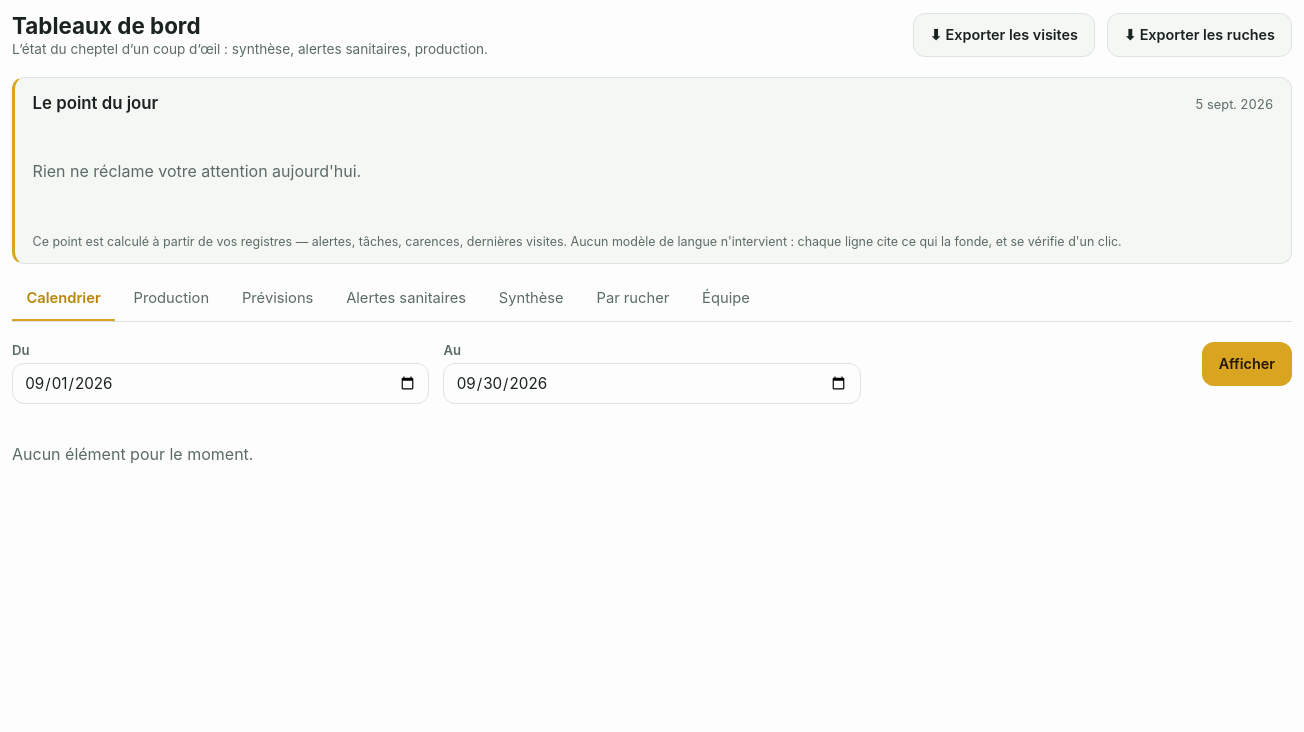
Test: synthèse par rucher et charge d’équipe (SPRINT-23) › affiche « non évalué », jamais un zéro, pour un rucher jamais visité
This screenshot has width=1304, height=732.
Click the button "Par rucher" at (633, 299), box [582,277,684,321]
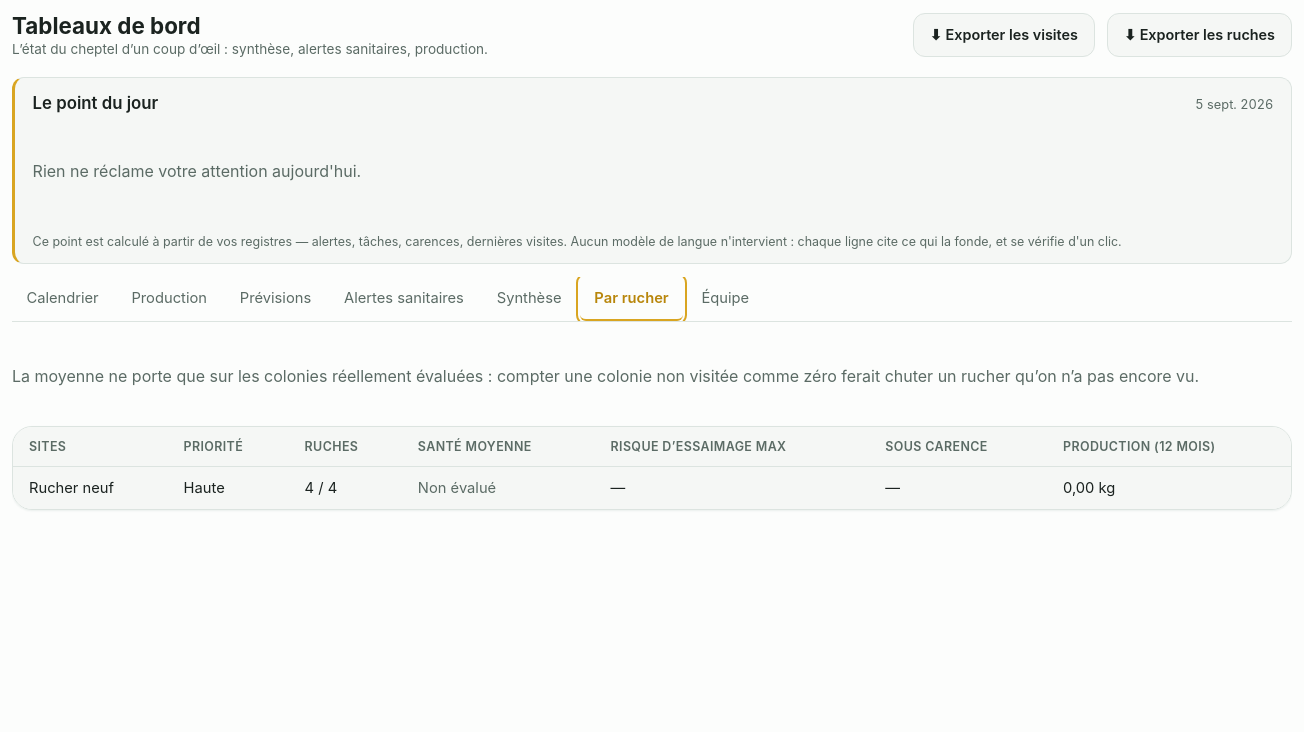
Now the text "Rucher neuf" is shown, box [13,466,168,509]
Now the text "Non évalué" is shown, box [418,479,496,497]
Now the text "Haute" is shown, box [168,466,289,509]
